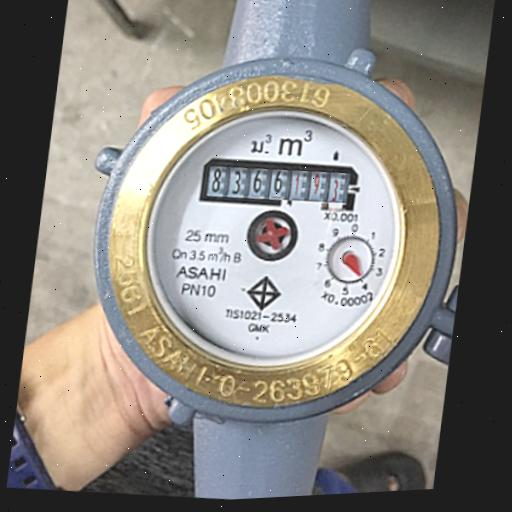1: (288, 171, 307, 201)
3: (226, 167, 246, 198), (327, 173, 345, 203)
6: (269, 168, 286, 200), (248, 167, 266, 197)
8: (206, 165, 226, 198)
9: (308, 171, 325, 203)
border_water_meter_number: (197, 148, 360, 220)
